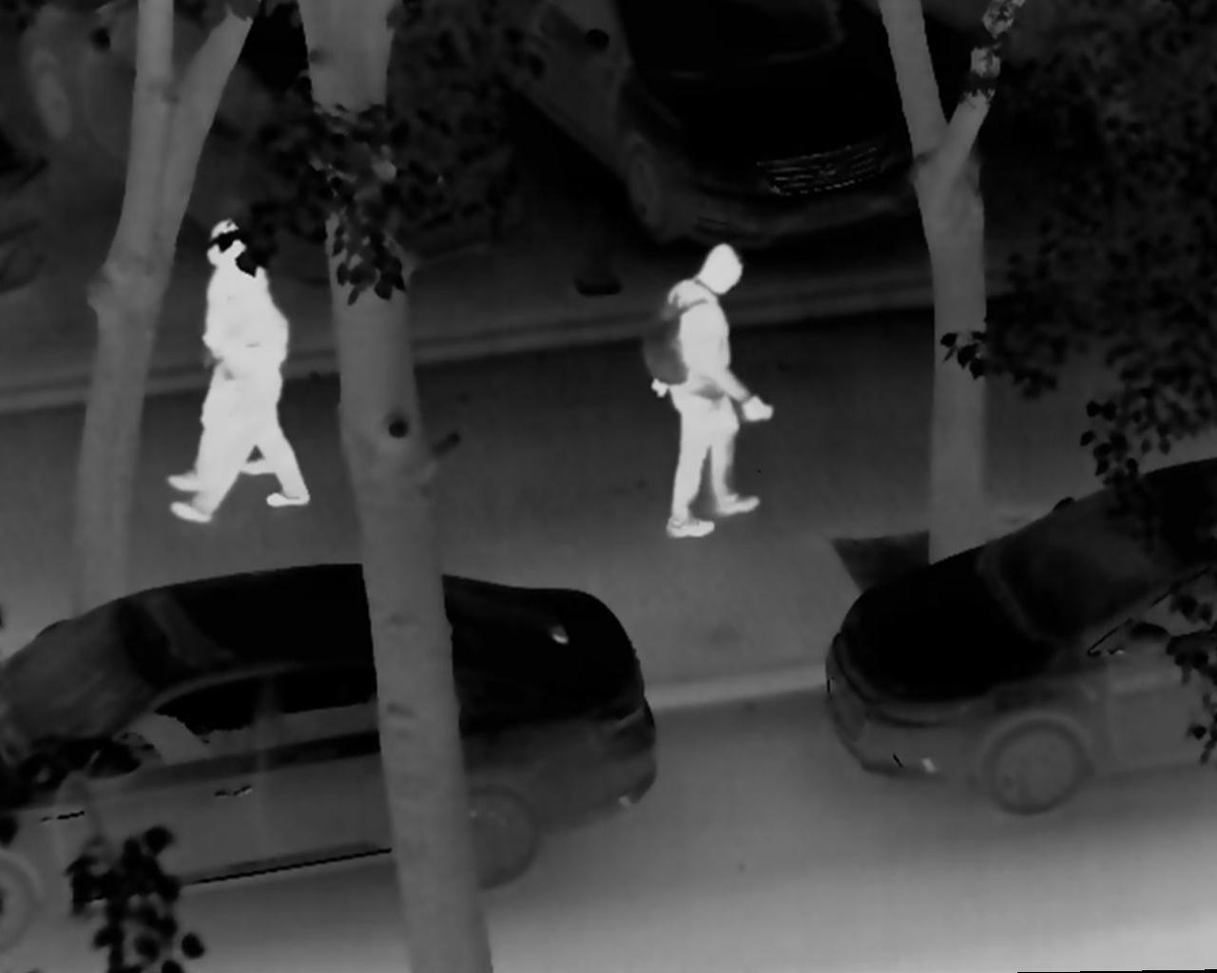person: (632, 235, 765, 544), (168, 244, 314, 525), (166, 222, 287, 491)
